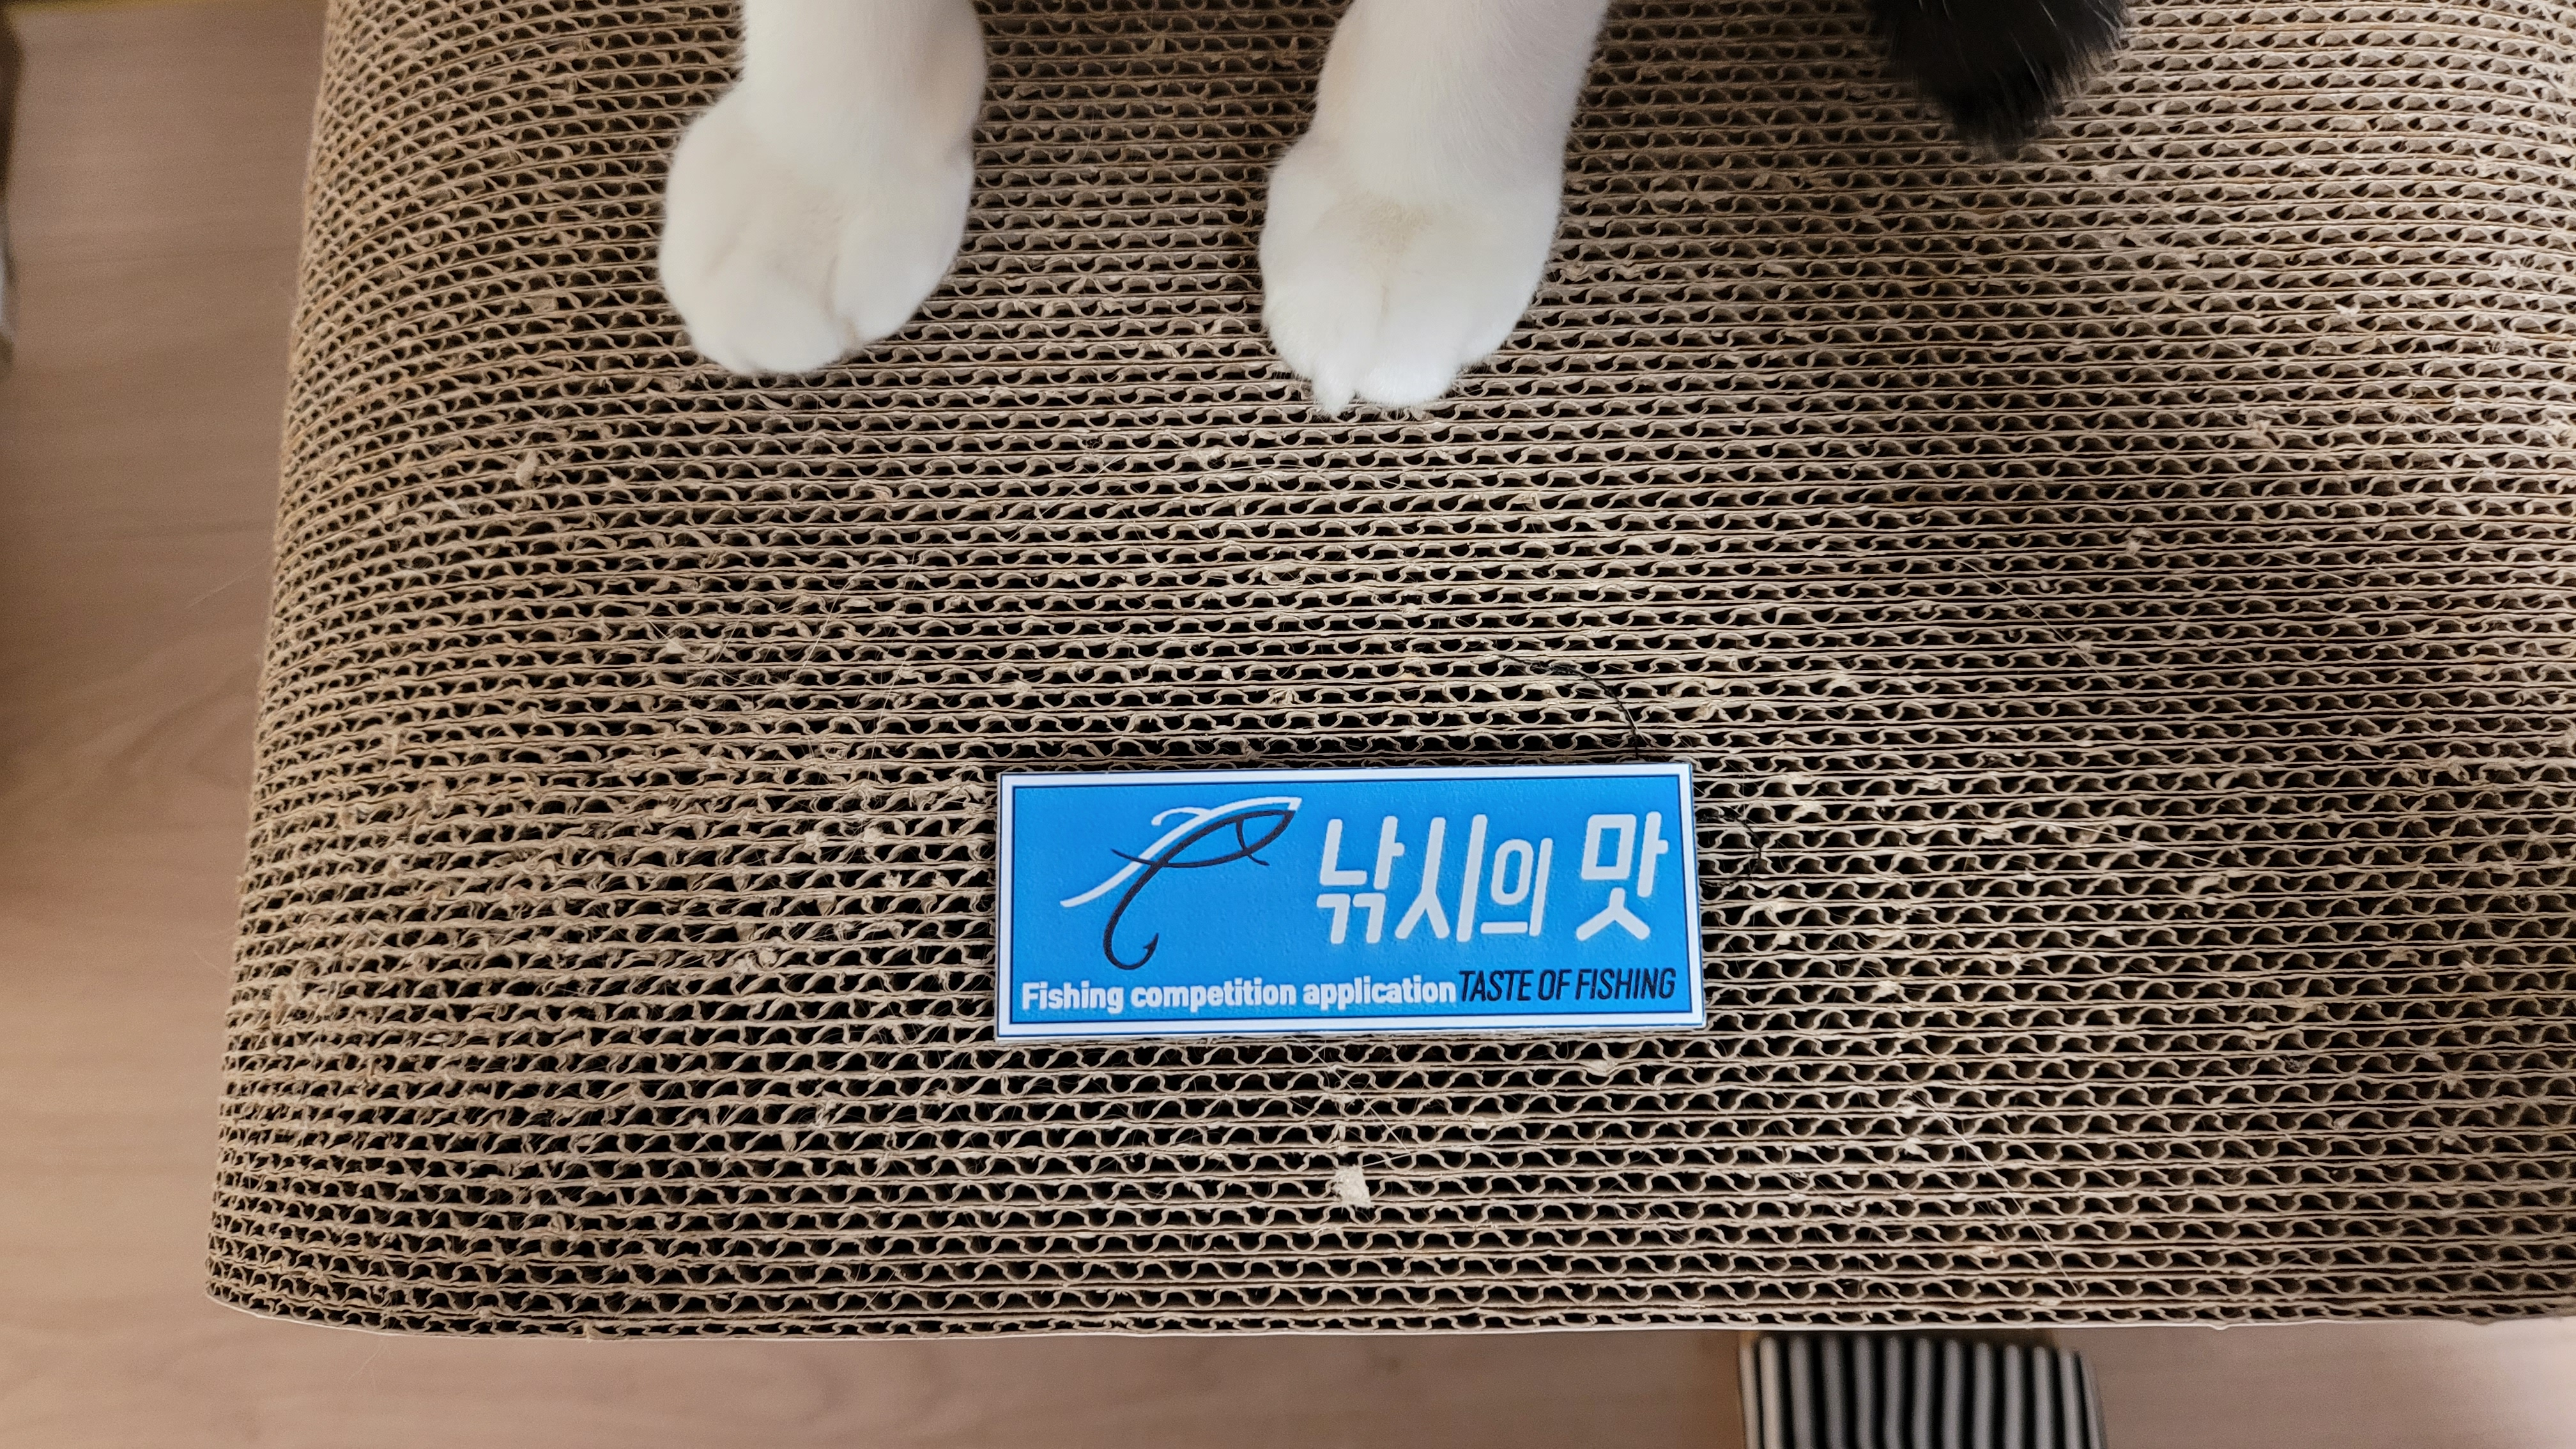tag: (1000, 770, 1704, 1033)
